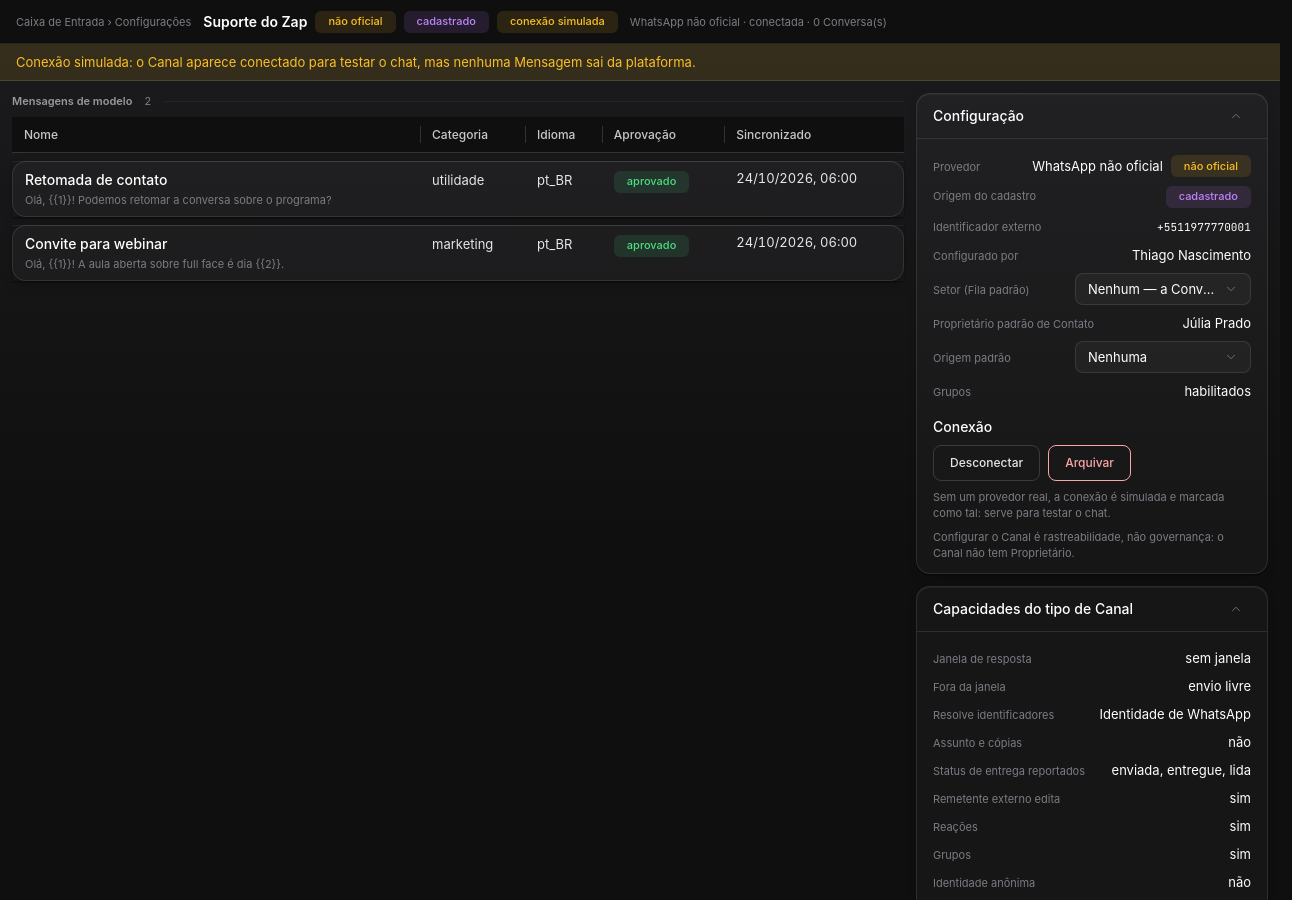
Test: 08-09 — a ficha do Canal relacional › (3) Canal conectado por simulação: marca, aviso fixo e o botão Desconectar
This screenshot has width=1292, height=900.
Expected: the heading "Suporte do Zap não oficial cadastrado conexão simulada" is shown, [203,10,618,32]
Expected: the text "conexão simulada" is shown, [497,10,618,32]
Click the button "Desconectar". click: (987, 462)
box: [933,444,1040,480]
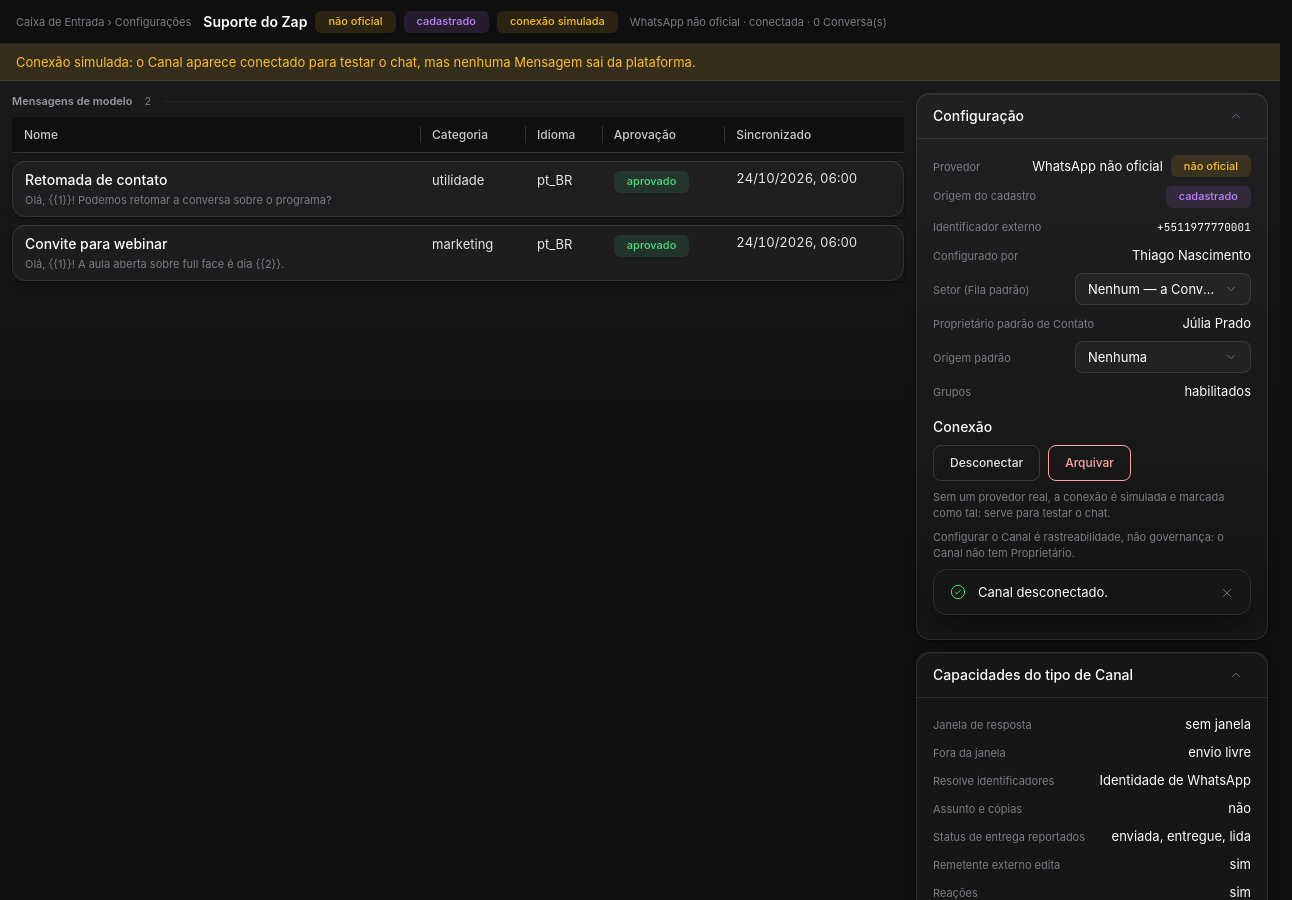
Expected: the text "Canal desconectado." is shown, [978,584,1108,600]
